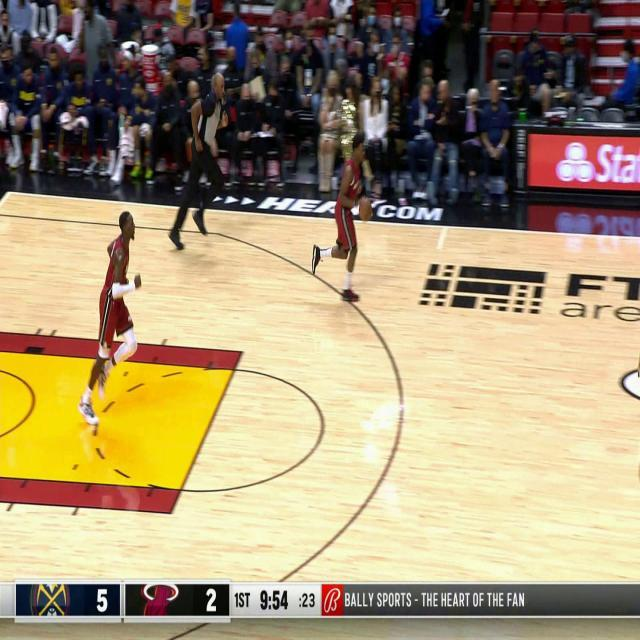rim: (358, 197, 372, 222)
